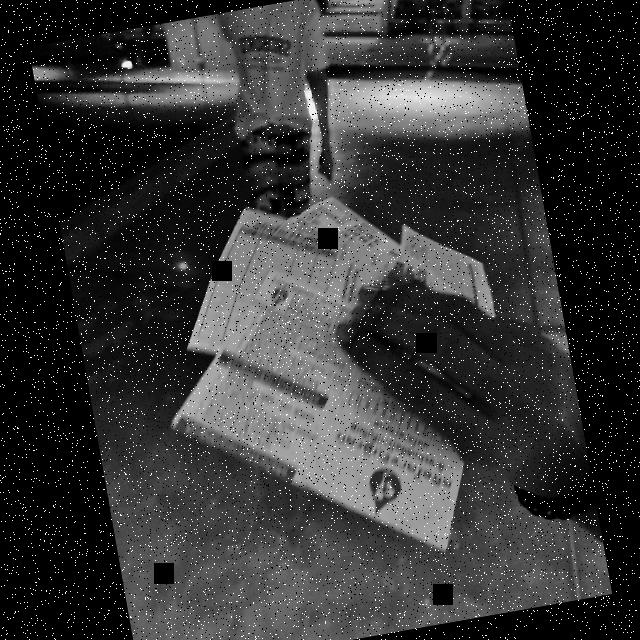scrap_paper: (142, 243, 475, 588), (160, 182, 387, 357), (284, 177, 464, 346), (384, 206, 499, 338)
